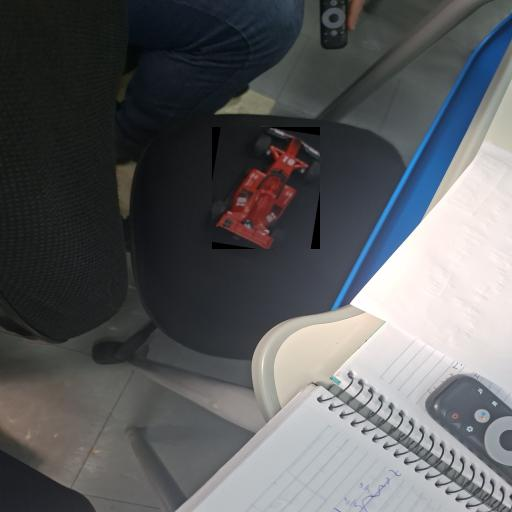carro: (211, 127, 318, 249)
